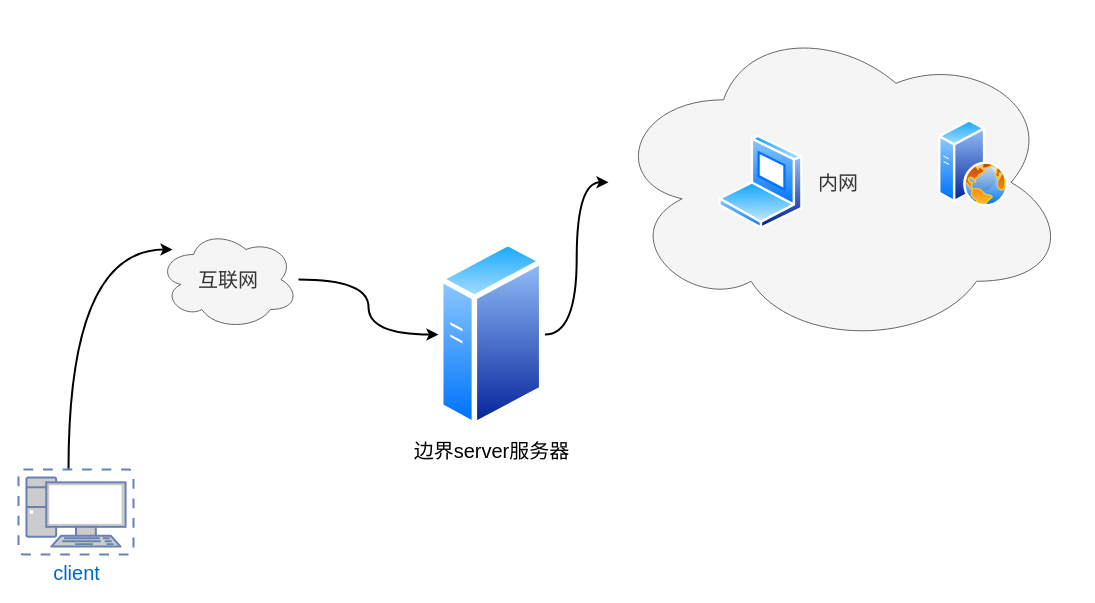
Image size: 1095x603. Some labels were removed from this diagram. Here are the shapes that lost their labels. From the top down, the centre of each, then its label:
At (x=760, y=182): "内网主机".
At (x=973, y=162): "内网服务器".
